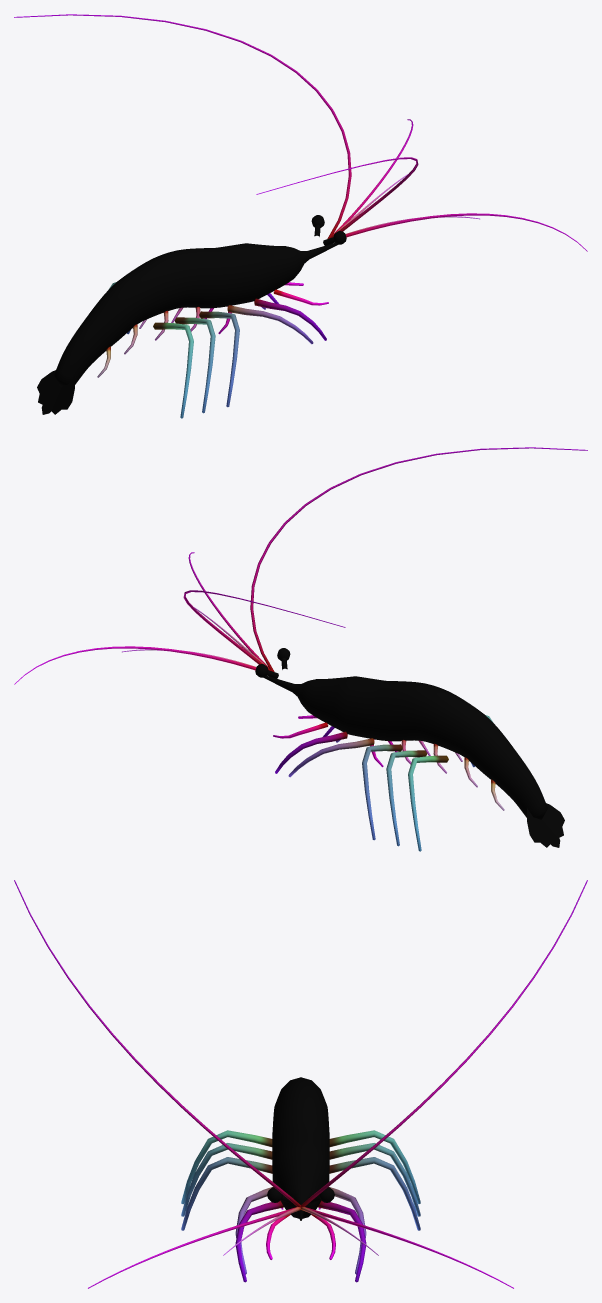
The model's file is fire_shrimp.glb.
3 renders of one model, top to bottom at view 1: azimuth 30°, elevation 25°; view 2: azimuth 150°, elevation 25°; view 3: azimuth 270°, elevation 25°, orthographic. The views are drawn at different scales.
Parts seen in each view (by area): view 1: Body, Legs, Antennae; view 2: Body, Legs, Antennae; view 3: Legs, Body, Antennae.
Part boxes in pixels (left/top/right/bottom): Body: left=37, top=242, right=338, bottom=414; Legs: left=97, top=282, right=328, bottom=418; Antennae: left=14, top=14, right=587, bottom=251; Body: left=263, top=675, right=564, bottom=847; Legs: left=273, top=715, right=504, bottom=851; Antennae: left=14, top=447, right=587, bottom=684; Legs: left=181, top=1130, right=420, bottom=1282; Body: left=272, top=1077, right=329, bottom=1220; Antennae: left=14, top=880, right=587, bottom=1288.
Size of the model in its own units: 1.46 by 0.8811 by 1.35.
2 materials, 1 textured.
